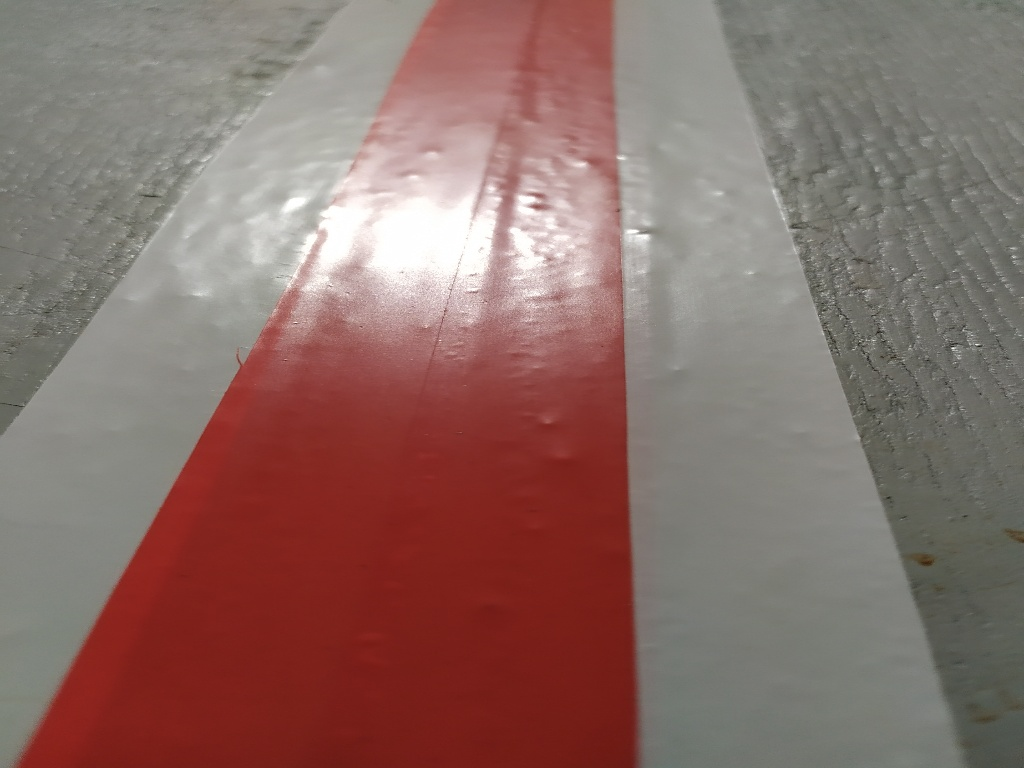reta: (1, 4, 987, 758)
